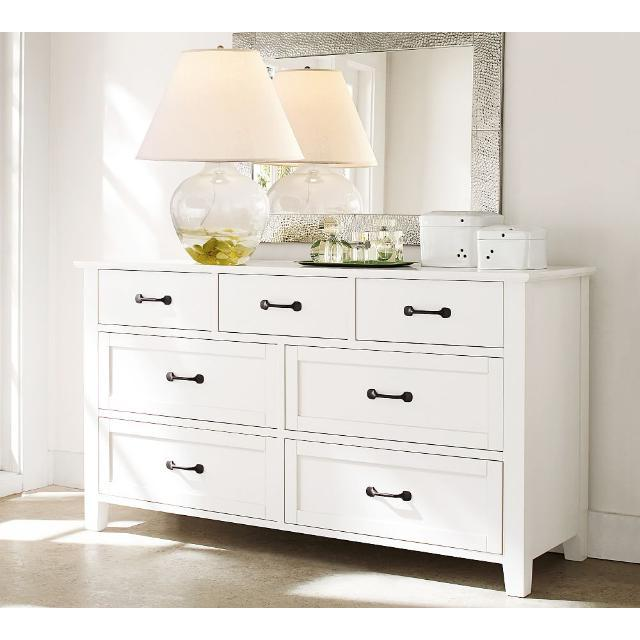dresser: (62, 254, 588, 602)
